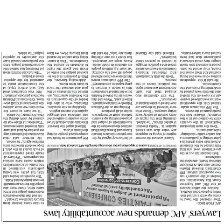news_paper: (0, 50, 224, 224)
